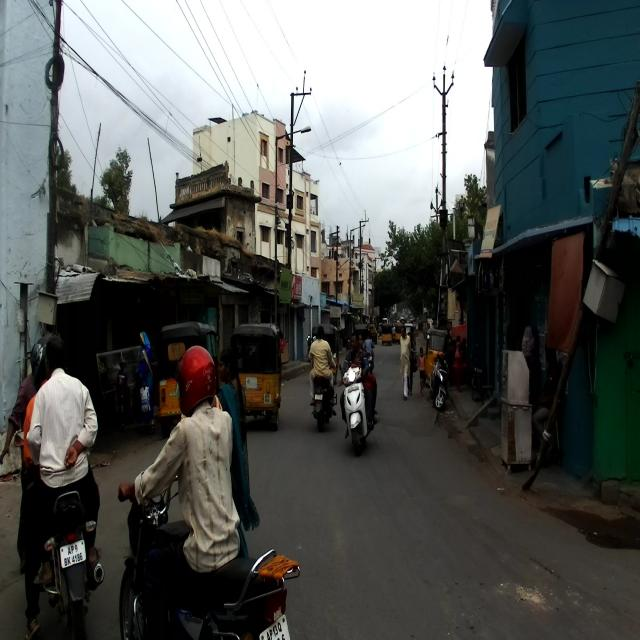autorickshaw: (157, 322, 221, 448), (230, 322, 284, 432)
motorcycle_Hero: (116, 471, 302, 640)
motorcycle_Yamaha: (307, 354, 335, 436)
motorcycle_bajaj: (13, 431, 105, 638)
scooter: (337, 355, 374, 454)
